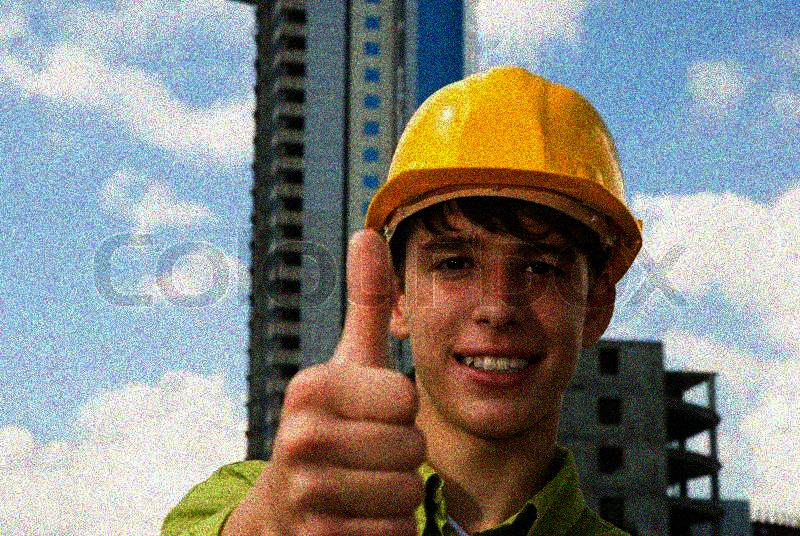helmet: (363, 62, 647, 437)
